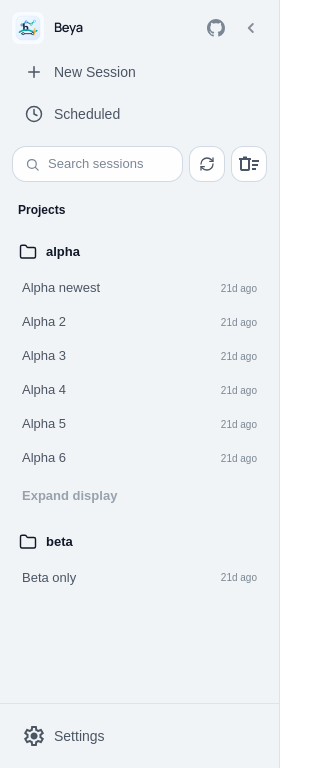
Test: Sidebar › groups sessions by project and expands overflow rows
Check: the text "Projects" is shown, box [18,201,65,219]
Check: the text "alpha" is shown, box [46,244,80,259]
Click the button "Expand display": point(70, 496) [22,482,117,510]
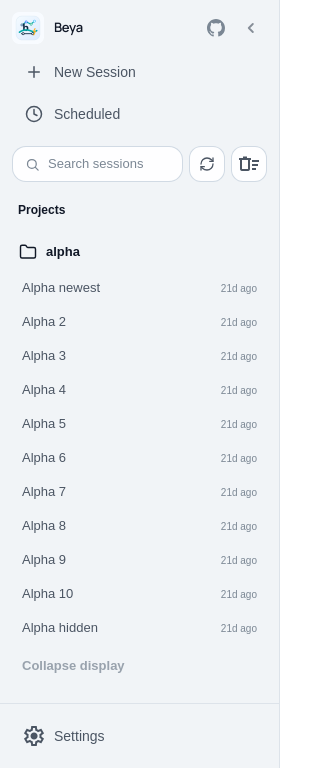
Check: the button "Alpha hidden 21d ago" is shown, box [12,612,267,644]
Check: the button "Collapse display" is shown, box [22,652,125,680]
